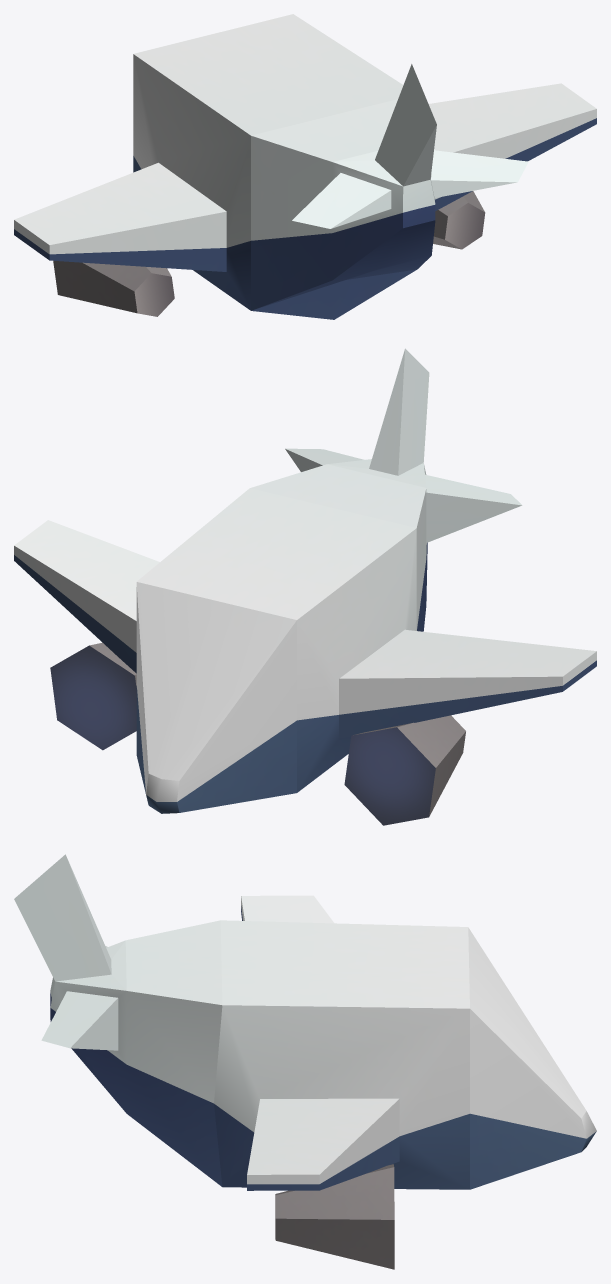
File: Plane_Individual.fbx
3 views of the same model, one above another, from view 1: azimuth 30°, elevation 25°; view 2: azimuth 150°, elevation 25°; view 3: azimuth 270°, elevation 25° (orthographic). The views are drawn at different scales.
Visible parts, largest first — view 1: polySurface24; view 2: polySurface24; view 3: polySurface24.
Boxes of the visible parts, x1,y1,x2,y2 form: polySurface24: (14,14,596,319); polySurface24: (14,348,596,825); polySurface24: (14,854,596,1269).
Size of the model in its own units: 17.76 by 10.03 by 15.67.
